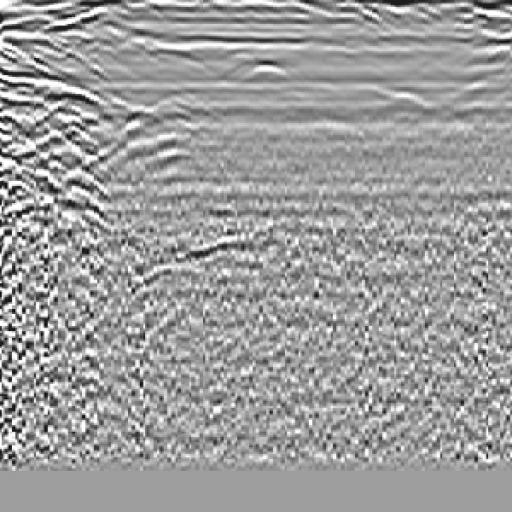non-metallic: (1, 25, 117, 272)
